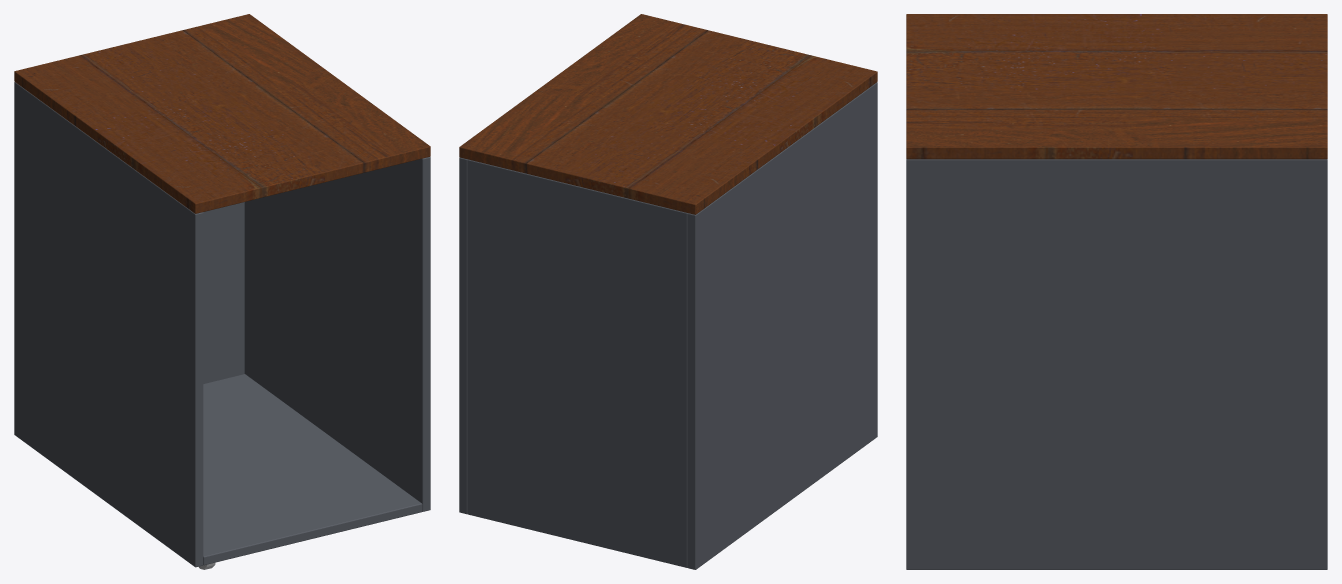
Rendered from drawer_unit_shell.glb.
3 views of the same model, side by side, from view 1: azimuth 30°, elevation 25°; view 2: azimuth 150°, elevation 25°; view 3: azimuth 270°, elevation 25° (orthographic). The views are drawn at different scales.
Visible parts, largest first — view 1: DrawerUnit_Shell; view 2: DrawerUnit_Shell; view 3: DrawerUnit_Shell.
Part boxes in pixels (x1,y1,x2,y2): DrawerUnit_Shell: [14, 14, 430, 569]; DrawerUnit_Shell: [459, 14, 877, 569]; DrawerUnit_Shell: [906, 14, 1327, 569].
Size of the model in its own units: 0.504 by 0.804 by 0.672.
3 materials, 1 textured.
